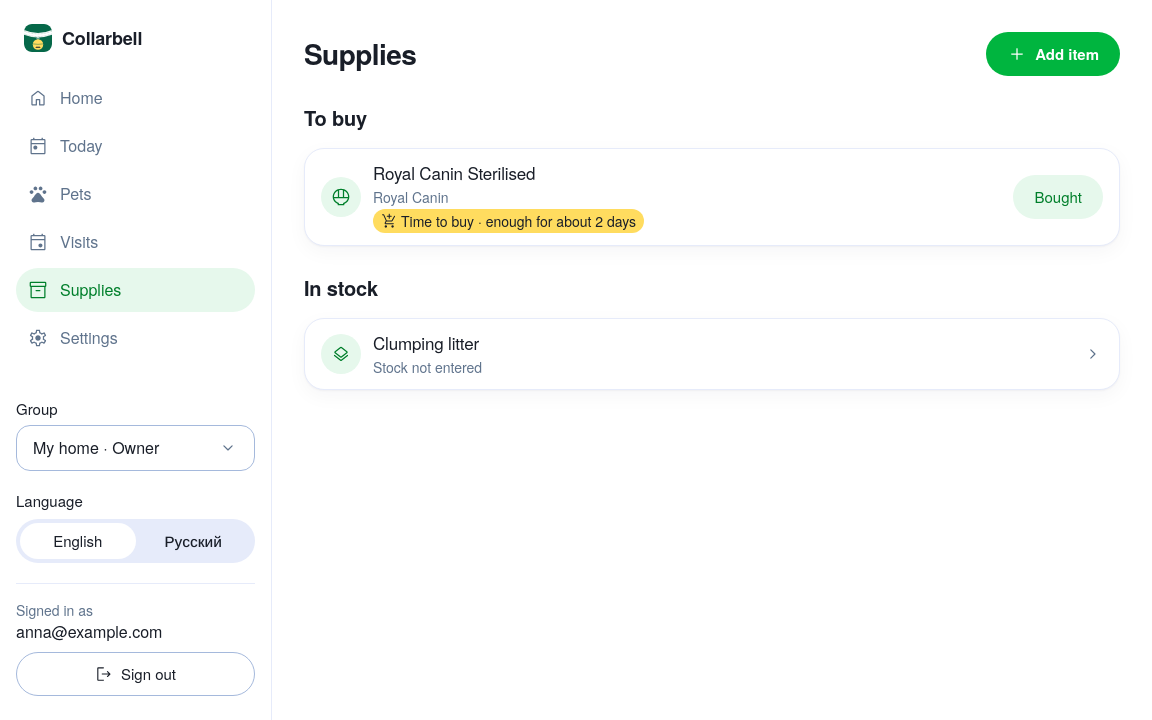
Test case: the supplies list › "Bought" takes packages; the item moves on to "In stock"
The width and height of the screenshot is (1152, 720).
Click the button "Bought". click: (1058,197)
box: [1014,175,1103,219]
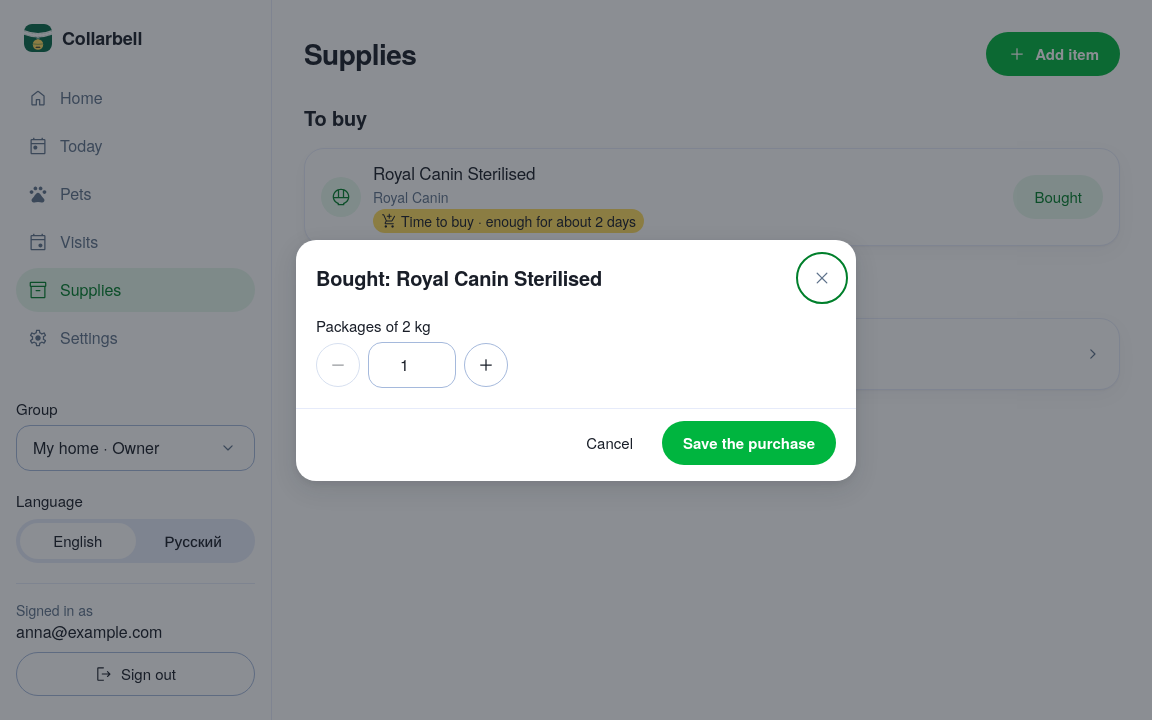
Check: the number field labelled "Packages of 2 kg" holds "1", box [368,342,456,388]
Click the button named "Packages of 2 kg: more". click: (486,364)
box: [464,342,508,386]
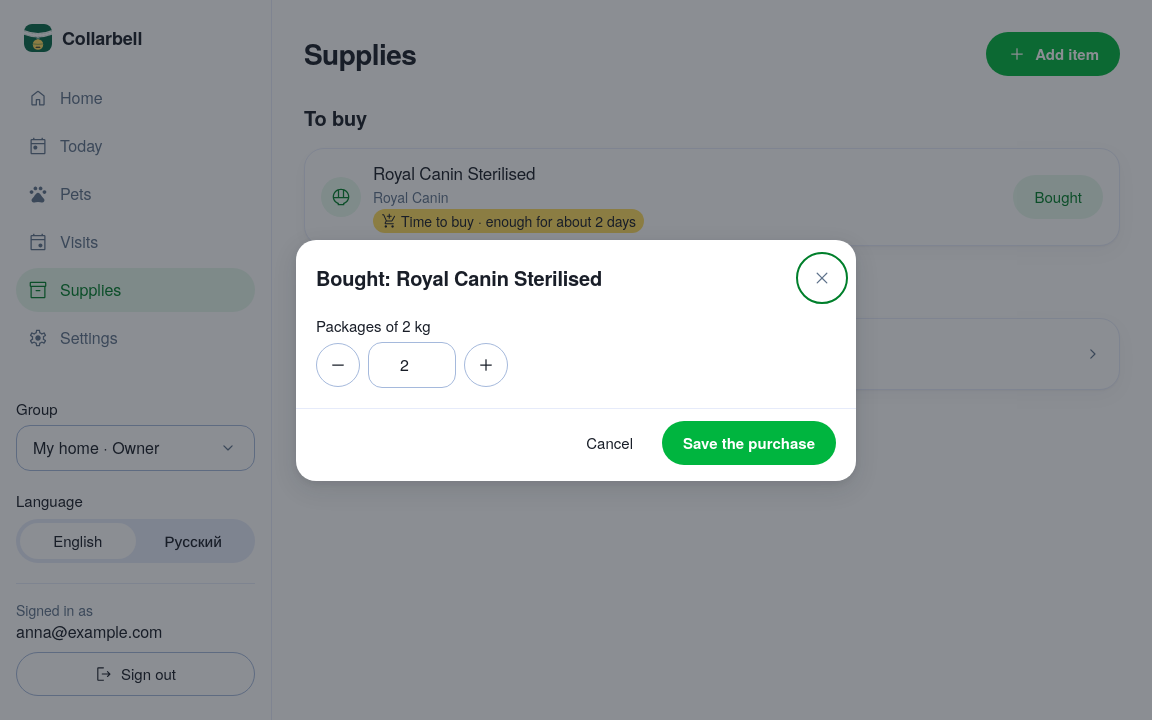
Check: the number field labelled "Packages of 2 kg" holds "2", box [368,342,456,388]
Click the button "Save the purchase". click: (749,442)
box: [662,420,836,464]
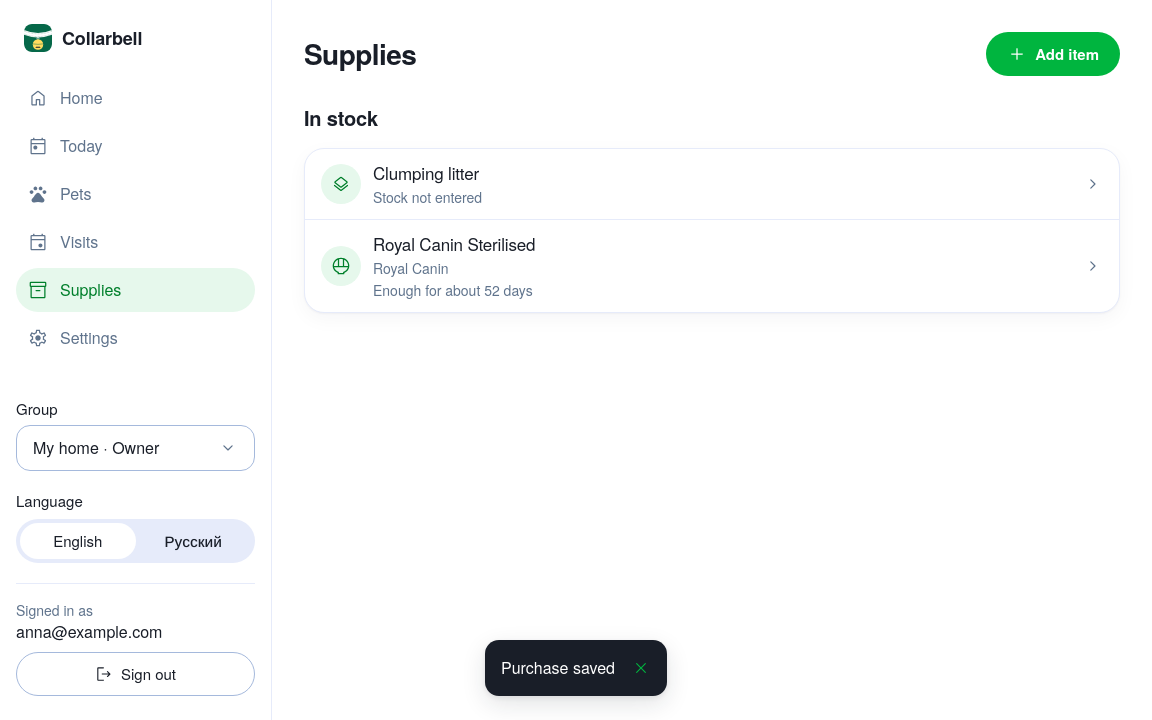
Check: the link "Royal Canin Sterilised" is shown, box [373,231,535,256]
Check: the text "Purchase saved" is shown, box [501,656,615,680]
Check: the heading "To buy" is gone
